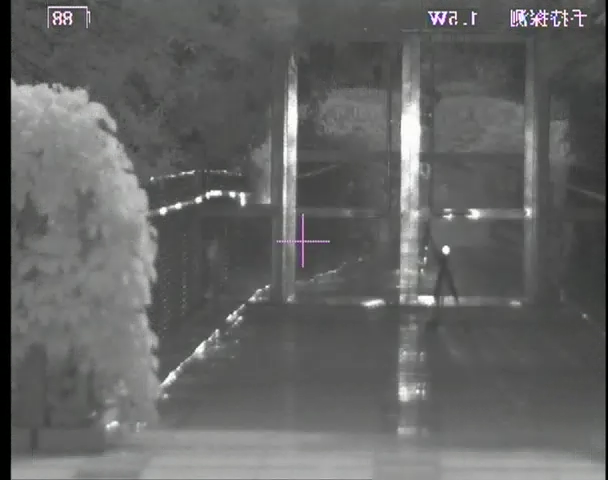my: (441, 245, 452, 255)
